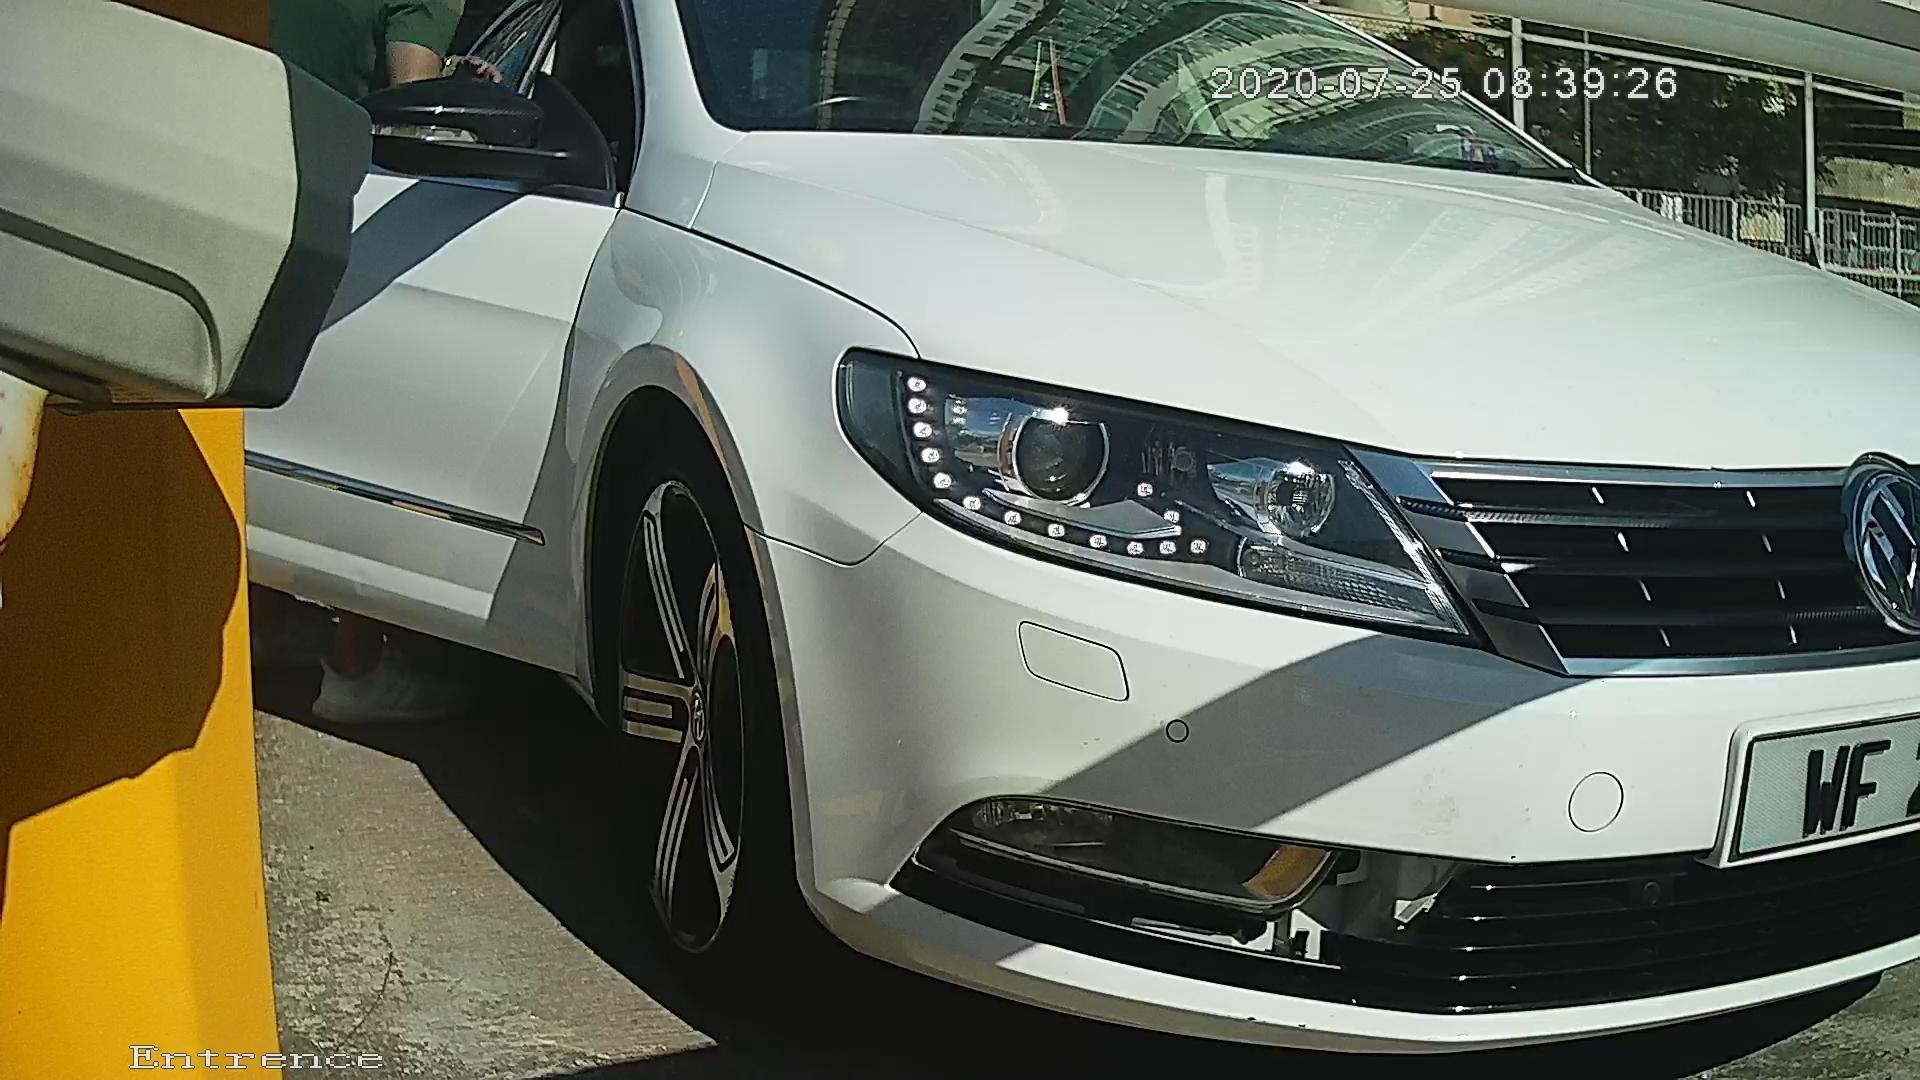Car: (258, 1, 1920, 1080)
License Plate: (1681, 704, 1920, 864)
